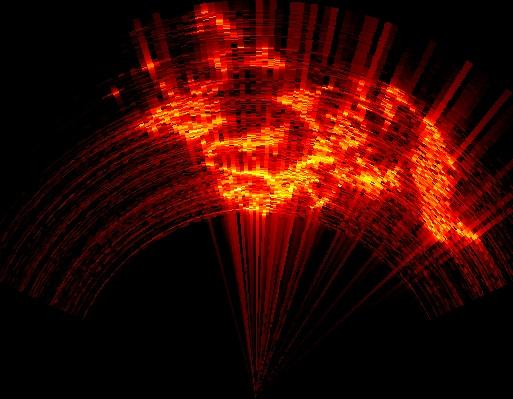shipwreck: (221, 111, 363, 213), (411, 123, 476, 239), (141, 100, 224, 137), (332, 157, 399, 197), (206, 128, 277, 165), (278, 90, 319, 132)
